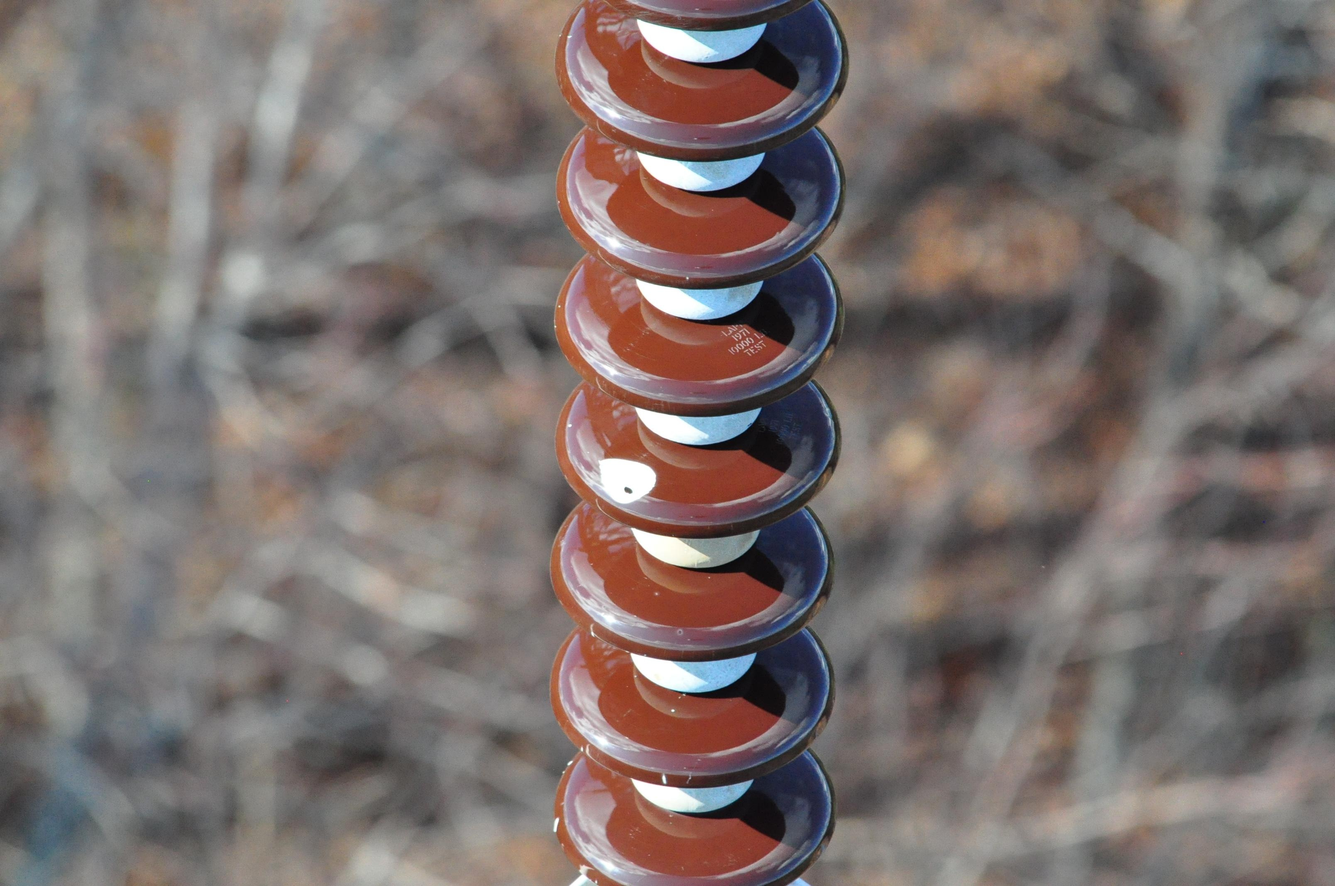damaged: (591, 446, 671, 513)
insulator: (554, 0, 850, 886)
